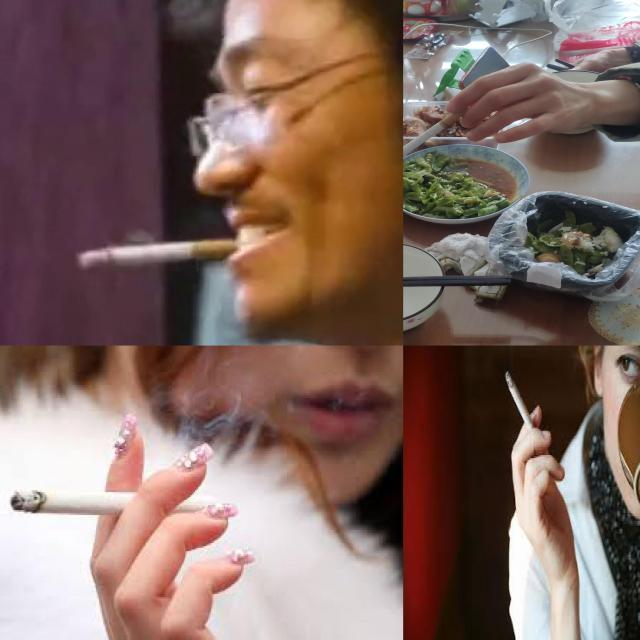cigarette: (9, 488, 198, 518), (78, 238, 255, 268), (403, 104, 472, 160), (506, 370, 542, 452)
